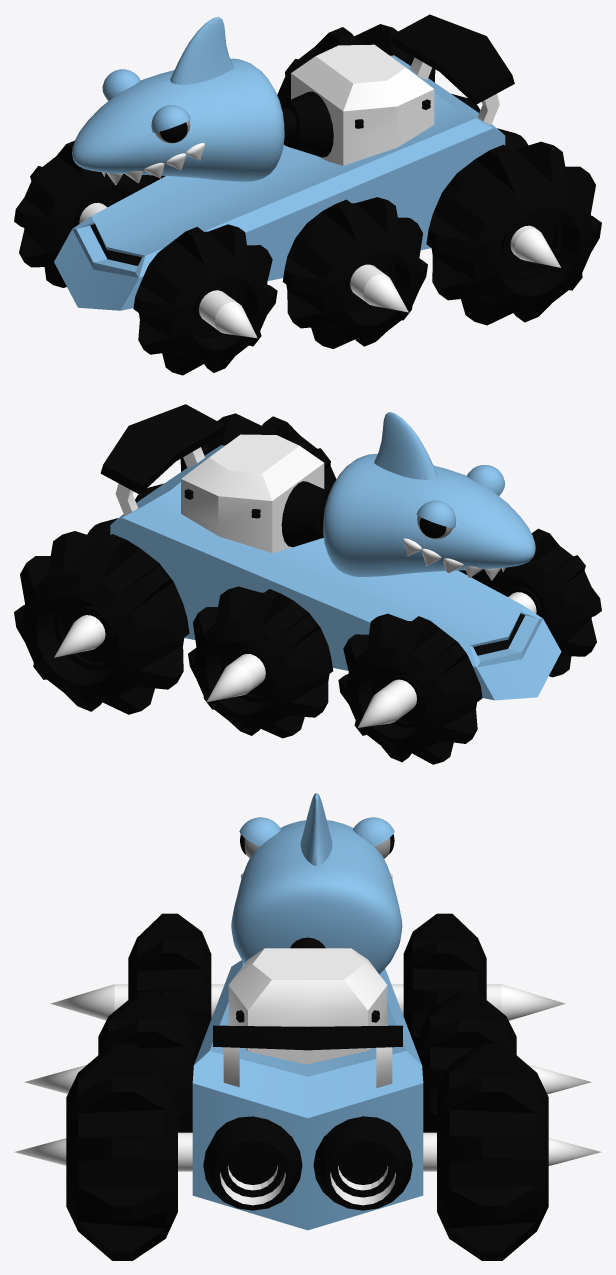
The model's file is Kart_Shark.fbx.
3 renders of one model, top to bottom at view 1: azimuth 30°, elevation 25°; view 2: azimuth 150°, elevation 25°; view 3: azimuth 270°, elevation 25°, orthographic. The views are drawn at different scales.
Parts seen in each view (by area): view 1: Kart_Shark, polySurface14, pSphere8, polySurface4, polySurface7, polySurface9, polySurface8, polySurface12, polySurface1, polySurface15, polySurface23, polySurface22 (+1 smaller); view 2: Kart_Shark, polySurface15, pSphere8, polySurface5, polySurface8, polySurface9, polySurface7, polySurface12, polySurface1, polySurface14, polySurface23, polySurface22 (+1 smaller); view 3: Kart_Shark, polySurface15, polySurface14, pSphere8, polySurface9, polySurface3, polySurface2, polySurface7, polySurface8, polySurface4, polySurface5, polySurface12 (+3 smaller).
Boxes of the visible parts, bbox=[...] form: Kart_Shark: bbox=[54, 55, 505, 310]; polySurface14: bbox=[426, 141, 601, 325]; pSphere8: bbox=[72, 16, 284, 181]; polySurface4: bbox=[282, 197, 427, 348]; polySurface7: bbox=[133, 224, 277, 375]; polySurface9: bbox=[291, 44, 434, 165]; polySurface8: bbox=[14, 140, 152, 287]; polySurface12: bbox=[390, 14, 514, 125]; polySurface1: bbox=[281, 91, 333, 157]; polySurface15: bbox=[277, 24, 435, 104]; polySurface23: bbox=[79, 202, 257, 338]; polySurface22: bbox=[350, 264, 408, 312]; Kart_Shark: bbox=[110, 445, 561, 700]; polySurface15: bbox=[14, 531, 189, 714]; pSphere8: bbox=[323, 412, 535, 576]; polySurface5: bbox=[188, 586, 333, 738]; polySurface8: bbox=[338, 613, 482, 764]; polySurface9: bbox=[181, 434, 324, 553]; polySurface7: bbox=[463, 528, 601, 677]; polySurface12: bbox=[100, 404, 224, 515]; polySurface1: bbox=[281, 481, 329, 547]; polySurface14: bbox=[180, 413, 336, 491]; polySurface23: bbox=[358, 592, 536, 727]; polySurface22: bbox=[207, 654, 265, 701]; Kart_Shark: bbox=[192, 960, 423, 1230]; polySurface15: bbox=[437, 1043, 548, 1260]; polySurface14: bbox=[66, 1043, 177, 1260]; pSphere8: bbox=[231, 793, 402, 974]; polySurface9: bbox=[228, 948, 387, 1063]; polySurface3: bbox=[313, 1116, 412, 1210]; polySurface2: bbox=[203, 1116, 302, 1210]; polySurface7: bbox=[128, 913, 211, 1060]; polySurface8: bbox=[403, 913, 486, 1058]; polySurface4: bbox=[98, 992, 195, 1132]; polySurface5: bbox=[419, 992, 516, 1132]; polySurface12: bbox=[213, 1025, 402, 1087].
Bounding box in the file's own units: 7.89 × 5.03 × 7.94.
